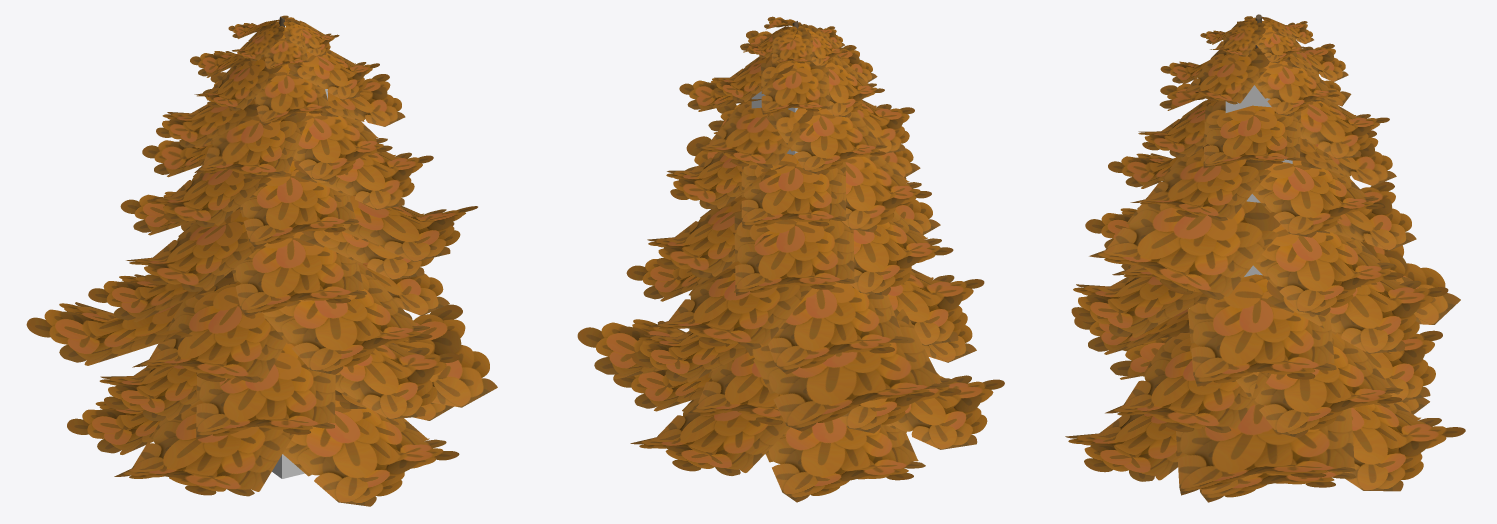
Rendered from pine_orange_1.glb.
The picture shows the model from 3 angles, left to right: view 1: azimuth 30°, elevation 25°; view 2: azimuth 150°, elevation 25°; view 3: azimuth 270°, elevation 25°; orthographic projection. The views are drawn at different scales.
Visible parts, largest first — view 1: Pine_1; view 2: Pine_1; view 3: Pine_1, Cube.003.
Boxes of the visible parts, bbox=[...] form: Pine_1: bbox=[26, 15, 497, 506]; Pine_1: bbox=[577, 16, 1004, 502]; Pine_1: bbox=[1065, 14, 1465, 502]; Cube.003: bbox=[1225, 85, 1292, 276].
Size of the model in its own units: 10.13 by 9.99 by 8.86.
Materials: 2 (2 with a texture image).
